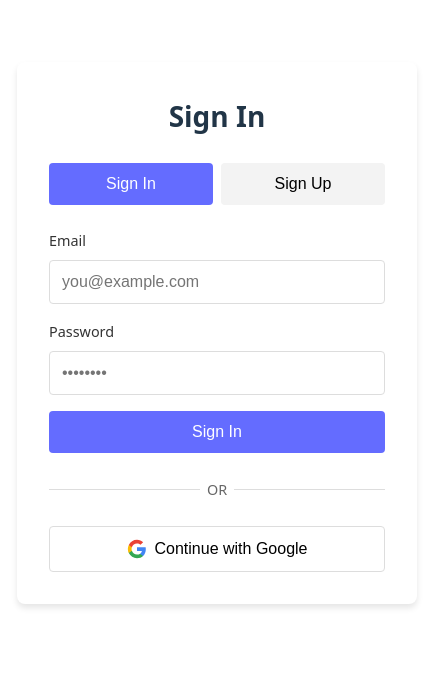
LoginPage › displays Firebase error messages
Type "test@example.com" into the field labelled "Email" at (217, 282), box [49,260,385,304]
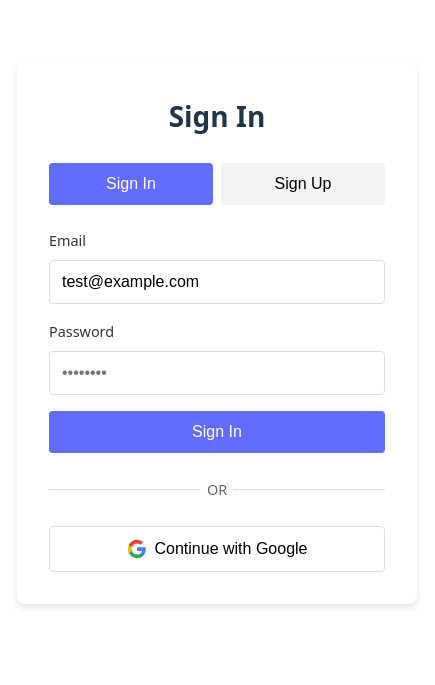
Type "wrongpass" into the password field labelled "Password" at (217, 373), box [49,351,385,395]
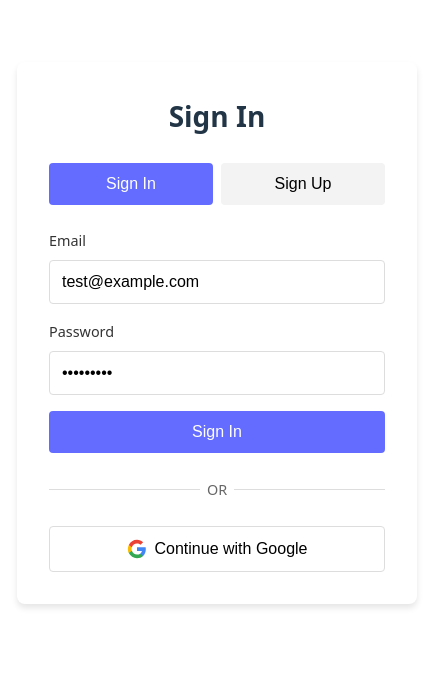
Click the button "Sign In" at (217, 432), box [49,411,385,453]
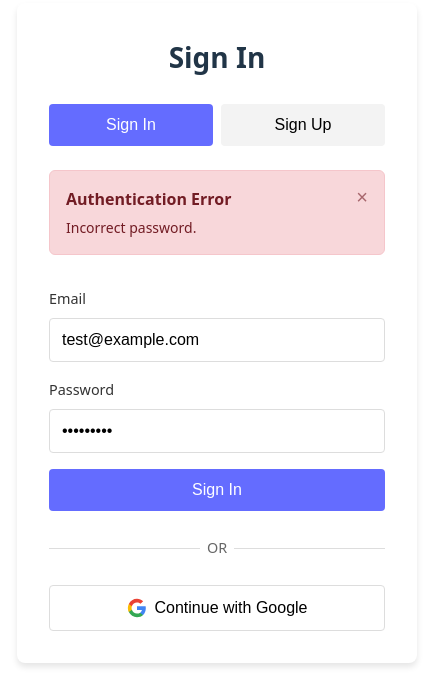
Expected: the text "Incorrect password." is shown, [66,218,196,237]
